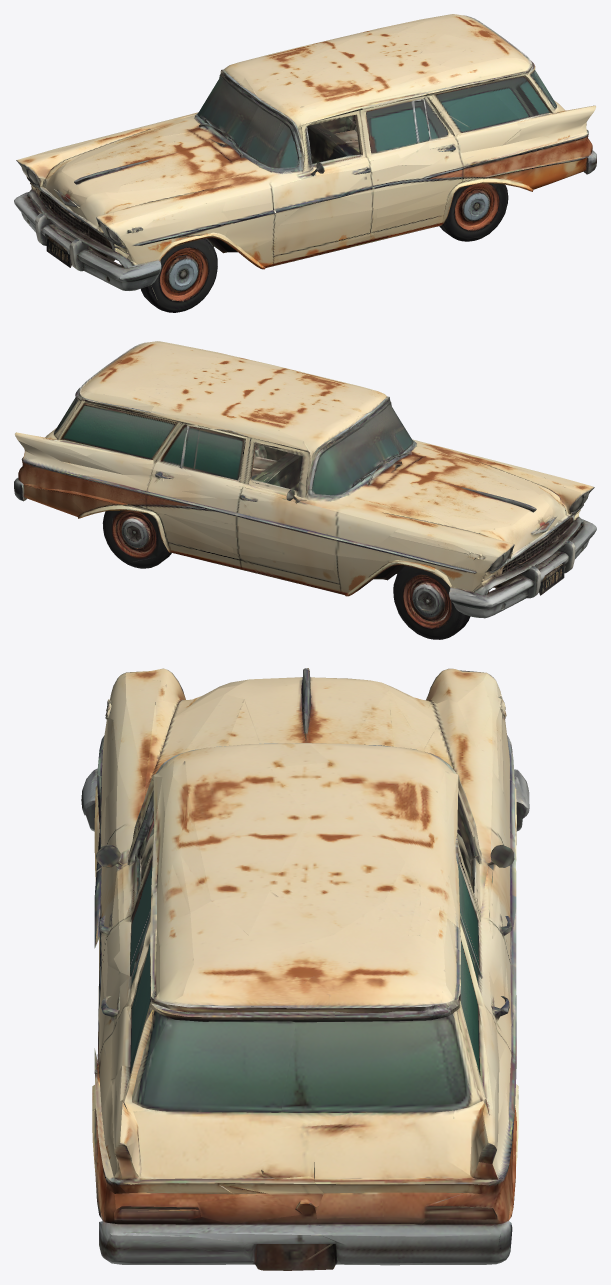
File: suburb-car.glb
3 views of the same model, one above another, from view 1: azimuth 30°, elevation 25°; view 2: azimuth 150°, elevation 25°; view 3: azimuth 270°, elevation 25° (orthographic). The views are drawn at different scales.
Parts seen in each view (by area): view 1: suburb-car-Mesh_0.006; view 2: suburb-car-Mesh_0.006; view 3: suburb-car-Mesh_0.006.
Part boxes in pixels (box(x1,y1,x2,y2)): suburb-car-Mesh_0.006: box(14, 14, 596, 312); suburb-car-Mesh_0.006: box(14, 341, 596, 639); suburb-car-Mesh_0.006: box(81, 668, 529, 1270).
Size of the model in its own units: 4.5 by 1.44 by 1.76.
1 material, 1 textured.
